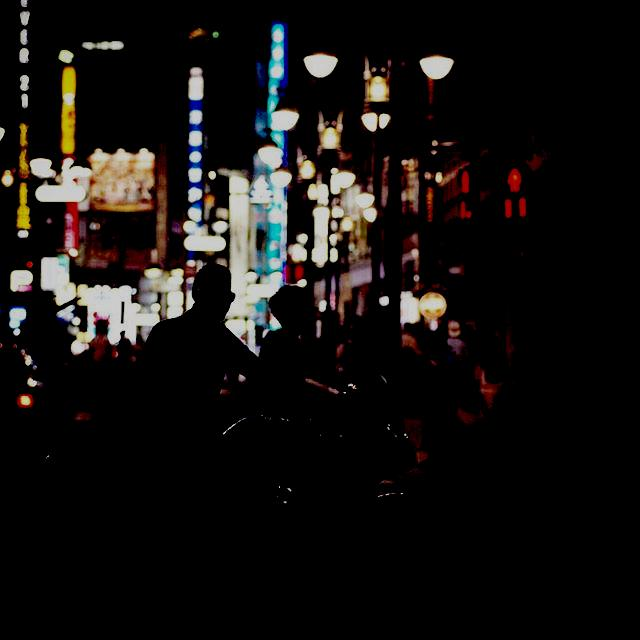Motorbike: (26, 384, 449, 614)
